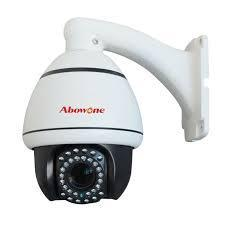tutu: (20, 50, 142, 207)
